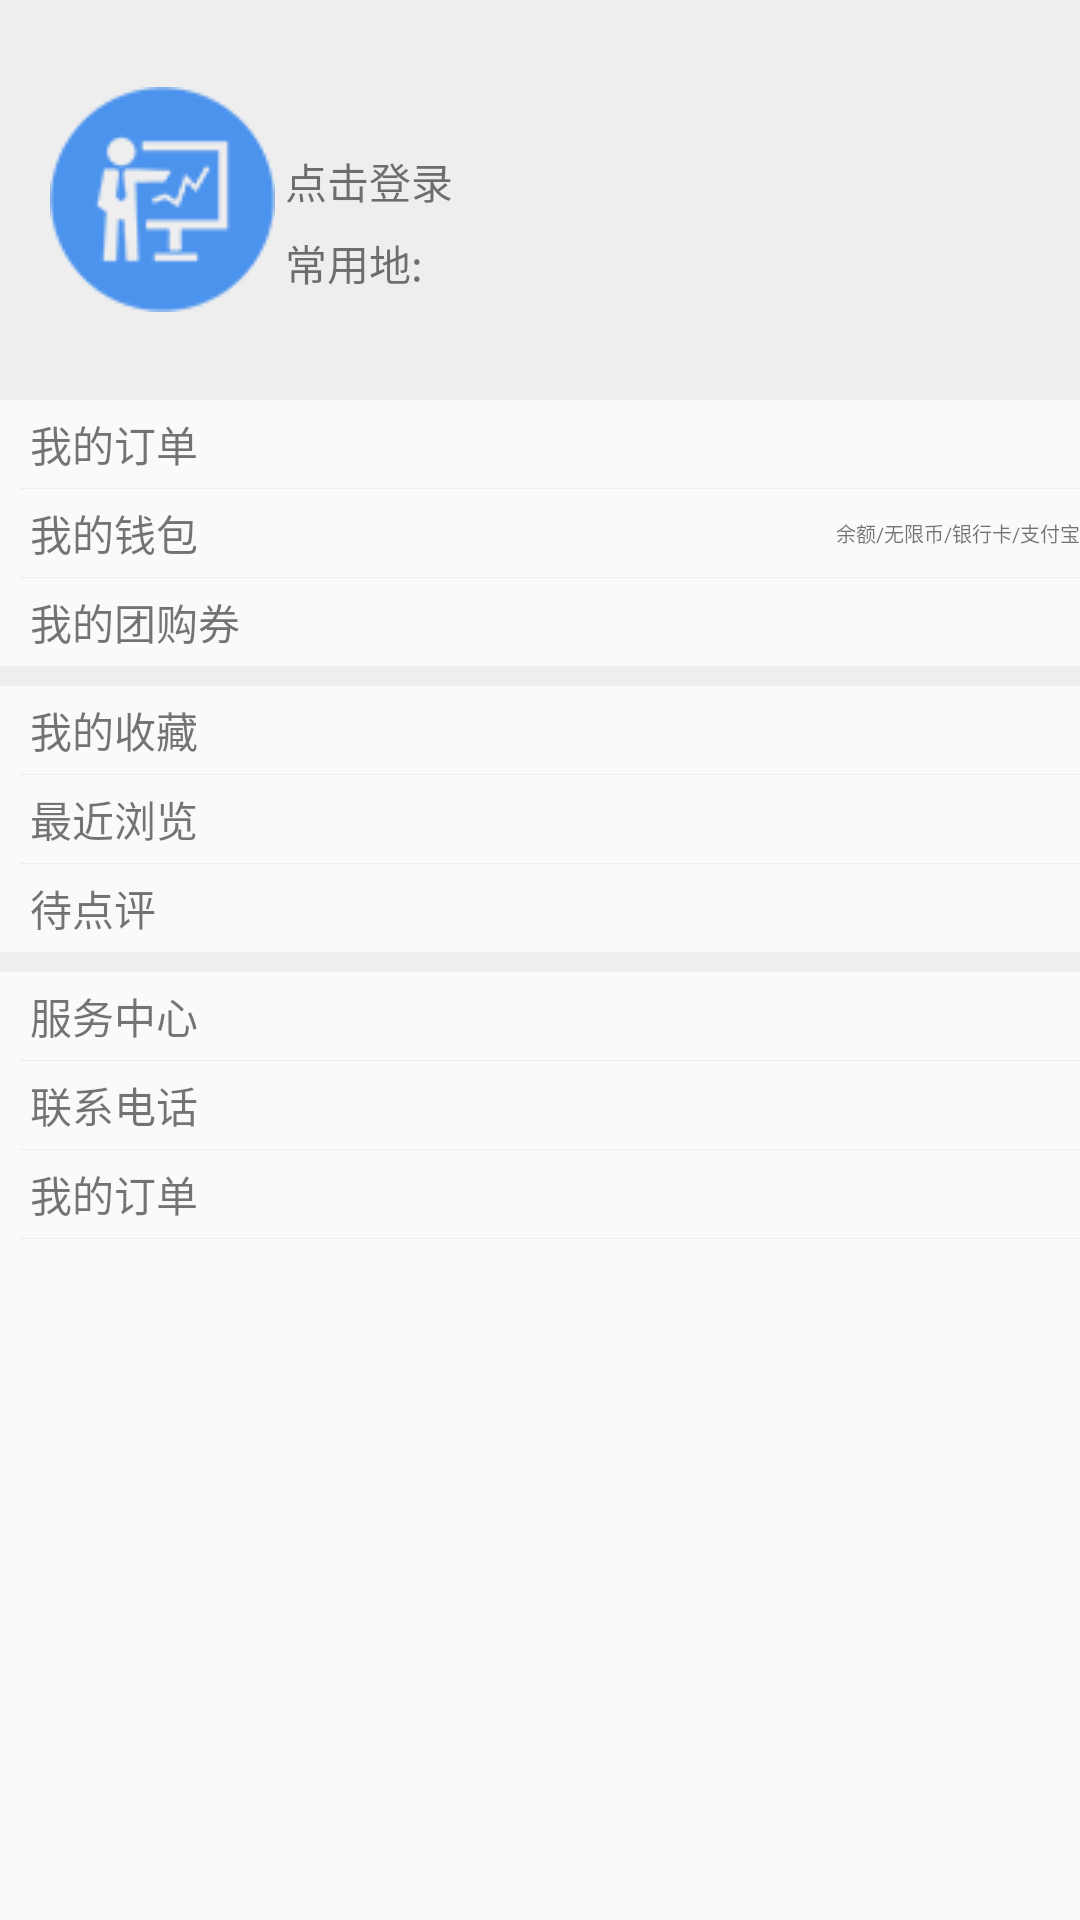

Icon click points for this 1080*1920 phone screenshot, format [x,y]:
education: [162,199]
